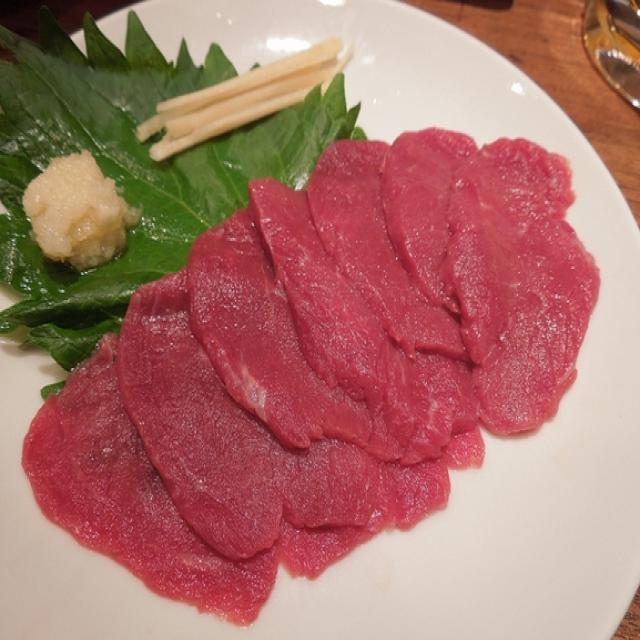刺身生食: (5, 2, 636, 631)
